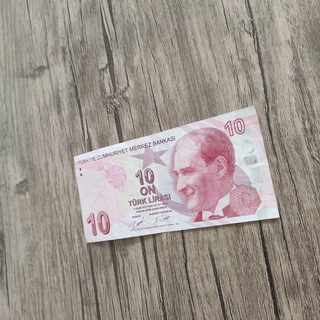10TLFront: (72, 104, 281, 244)
